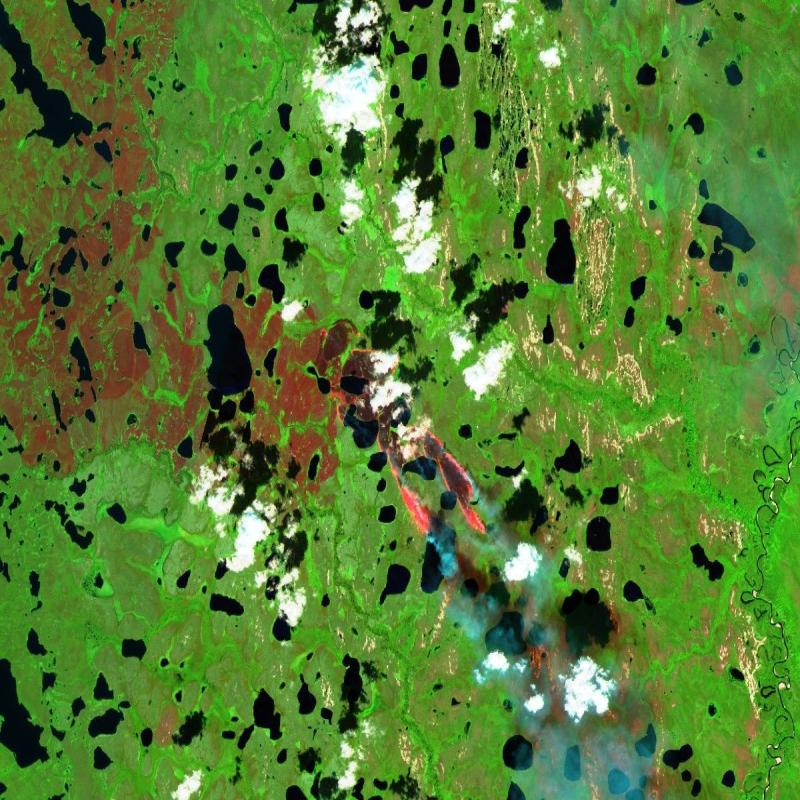fire: (314, 319, 491, 554)
